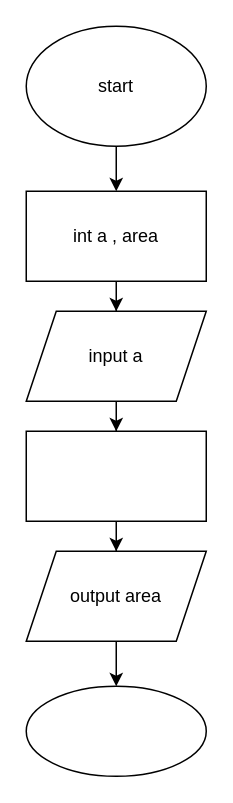
This 233x803 diagram has some shape labels left out. The shapes that lost their labels are listed below. From the top down, each one's box as (x1, y1, x2, y2) in pixels, then its label:
(25, 430, 206, 521): area = a *a
(25, 685, 206, 776): stop
